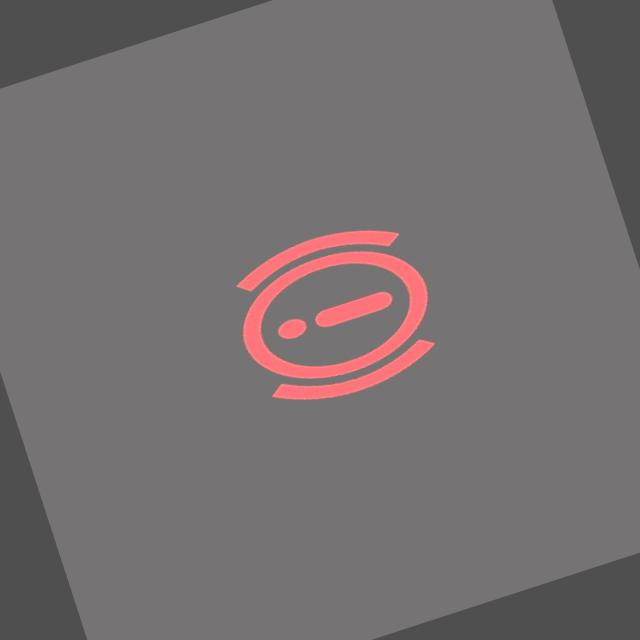kontrolka: (205, 196, 468, 433)
